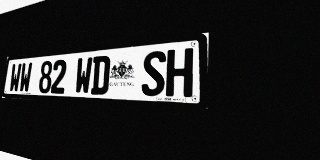2: (50, 59, 67, 94)
8: (38, 60, 53, 93)
D: (90, 55, 111, 95)
H: (165, 48, 193, 97)
S: (141, 50, 166, 96)
W: (74, 57, 93, 94), (19, 62, 32, 93), (9, 63, 22, 92)
